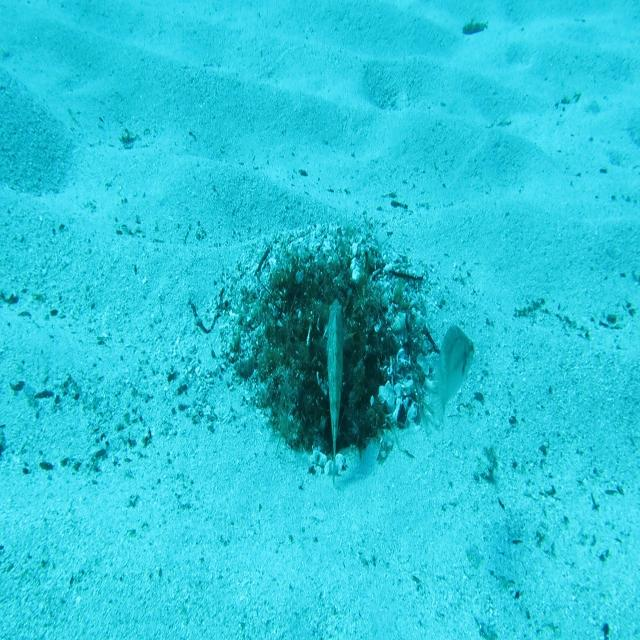FAN: (310, 292, 359, 488)
core_nest: (300, 276, 351, 310)
female: (429, 322, 477, 430)
nest: (227, 212, 458, 484)
vegetation: (460, 17, 489, 38)
